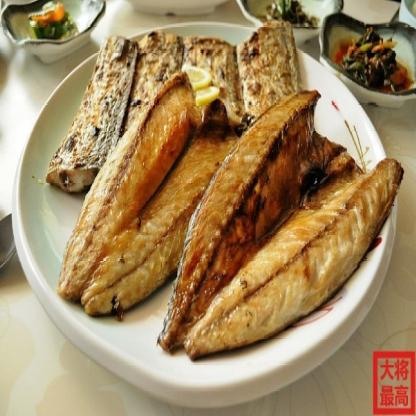Peixe: (59, 83, 408, 394)
